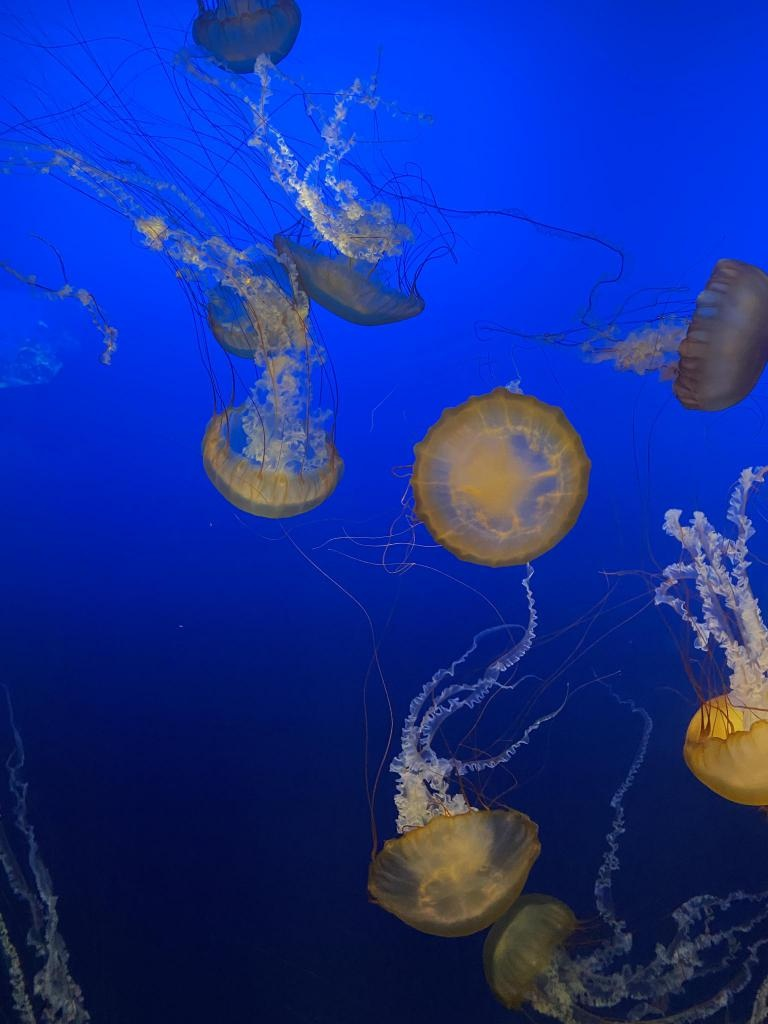jellyfish: (412, 385, 592, 567), (365, 804, 543, 938), (203, 400, 341, 520), (674, 254, 768, 414), (272, 231, 427, 325), (482, 888, 578, 1024), (684, 695, 768, 811), (206, 268, 306, 358), (190, 0, 300, 76)
